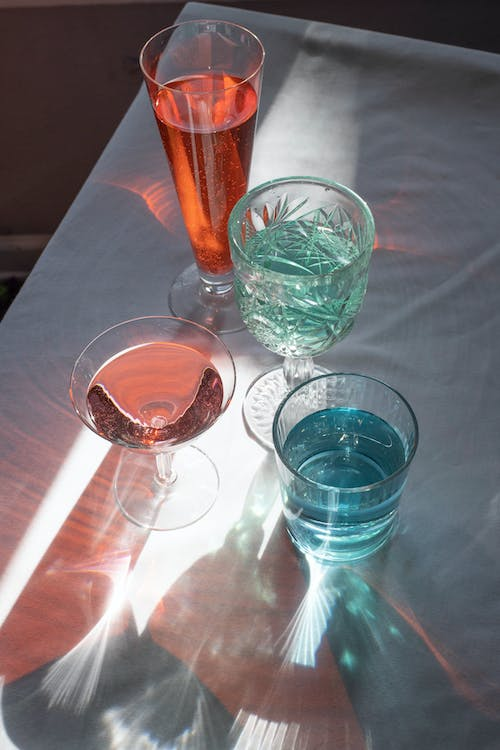alcohol: (227, 174, 377, 451), (138, 17, 267, 335), (69, 313, 237, 531), (270, 370, 421, 564)
